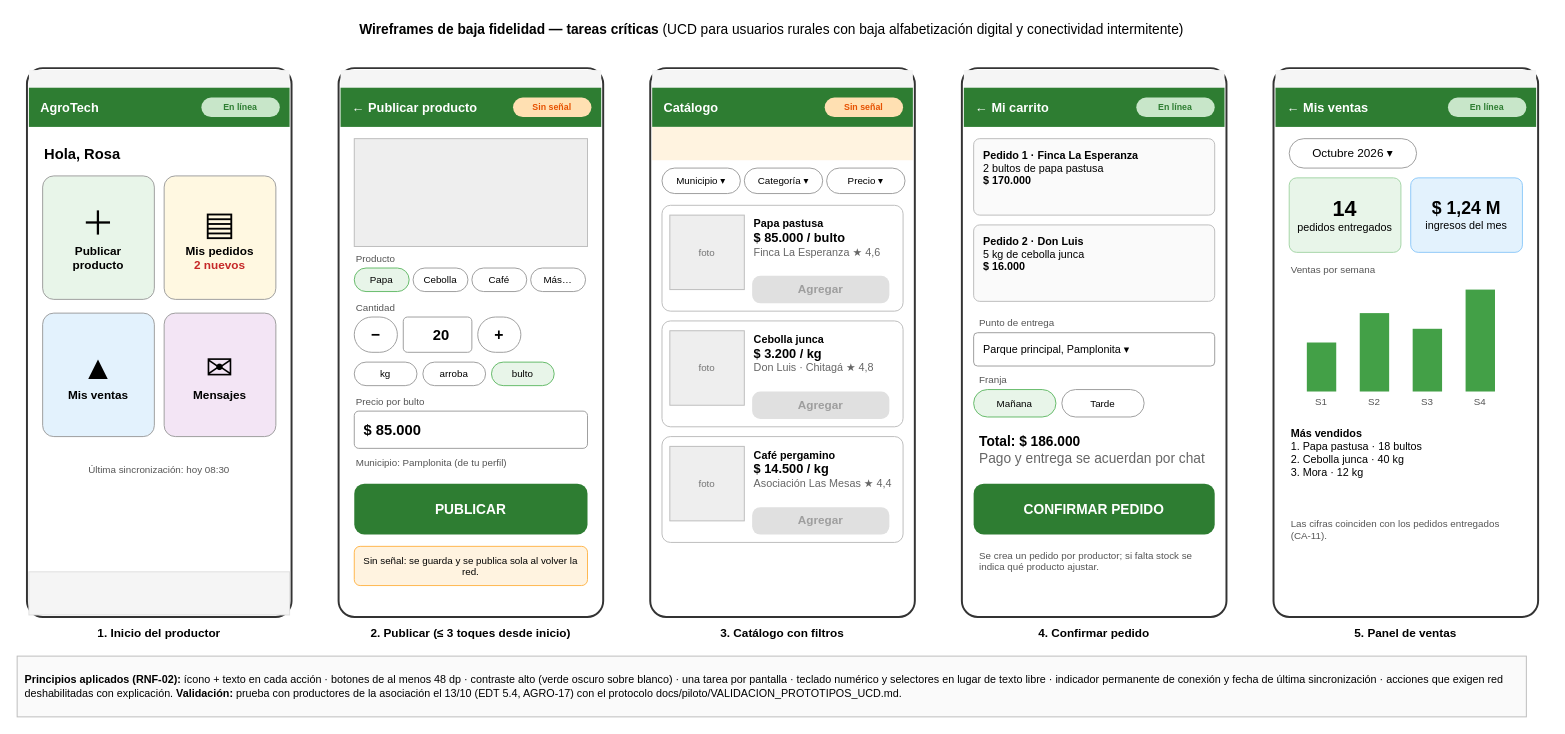
Image size: 1565x734. Some labels were removed from this diagram. The box of each missing label's shape, as (x1, y1, x2, y2) in pixels:
Inicio · Pedidos · Perfil: (28, 571, 290, 615)
Sin conexión · datos del 10/10 08:30. La compra se habilita con red.: (652, 126, 912, 160)
◉ Tomar foto: (353, 138, 588, 246)
